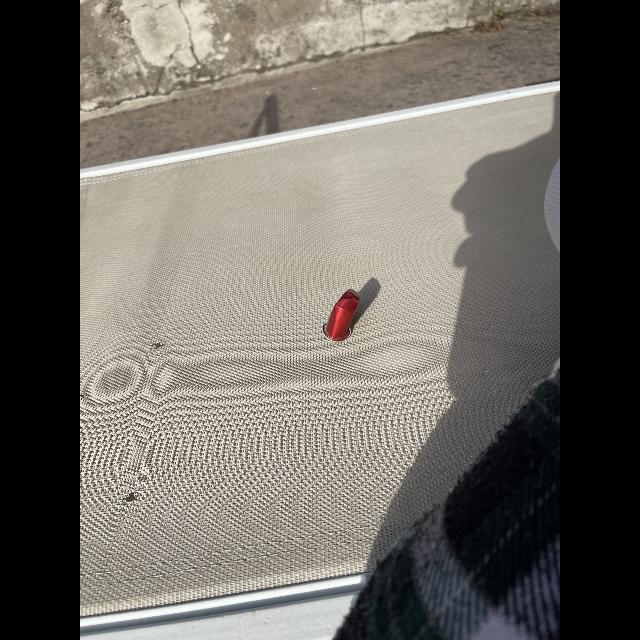damaged_capsule: (321, 286, 364, 346)
